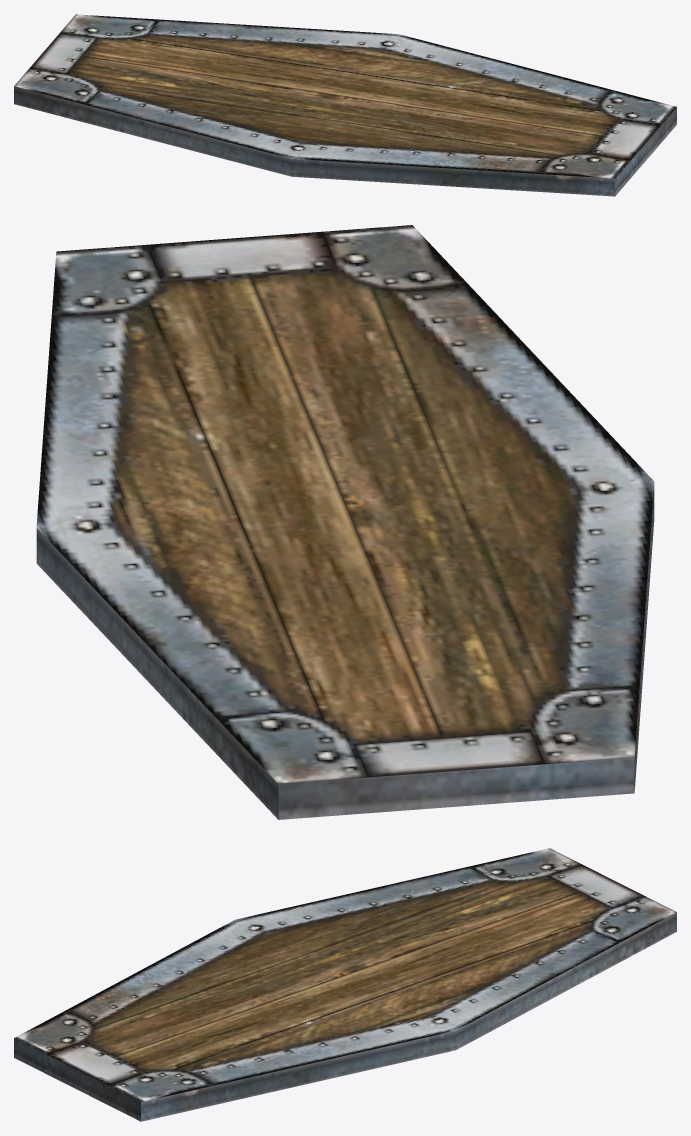
The model's file is msk.glb.
3 renders of one model, top to bottom at view 1: azimuth 30°, elevation 25°; view 2: azimuth 150°, elevation 25°; view 3: azimuth 270°, elevation 25°, orthographic. The views are drawn at different scales.
Visible parts, largest first — view 1: msk-col; view 2: msk-col; view 3: msk-col.
Part boxes in pixels (bbox=[...]): msk-col: bbox=[14, 14, 676, 196]; msk-col: bbox=[36, 225, 654, 819]; msk-col: bbox=[14, 848, 676, 1121].
Bounding box in the file's own units: 0.8549 × 0.0308 × 0.9428.
1 material, 1 textured.
